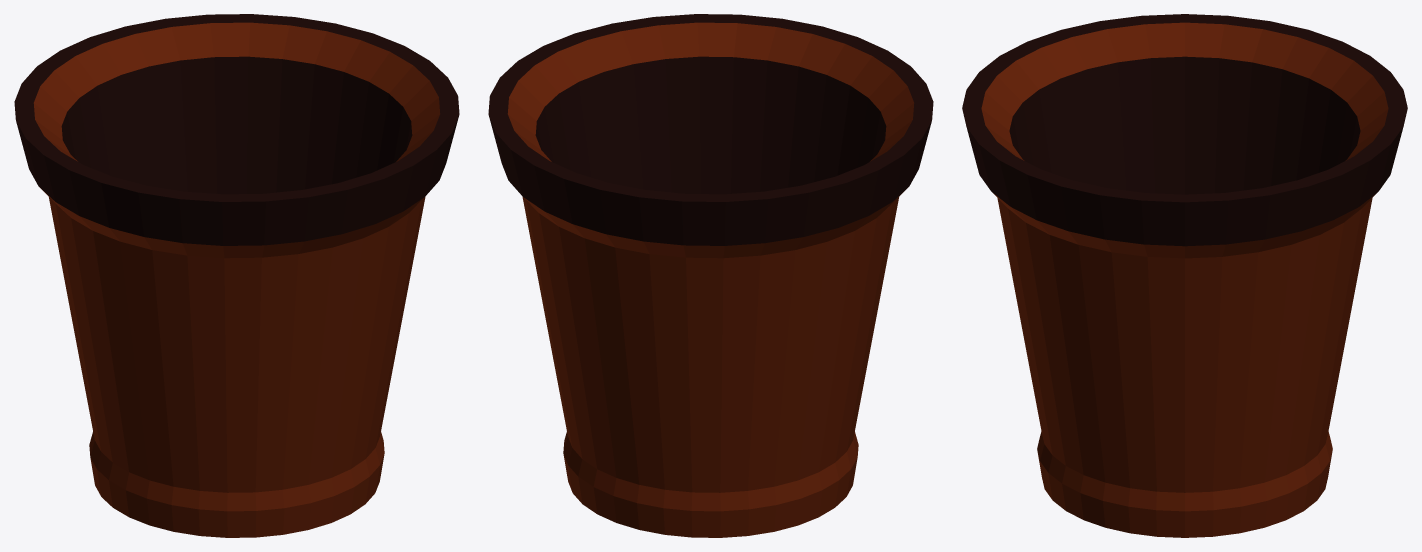
Rendered from tong.obj.
3 renders of one model, left to right at view 1: azimuth 30°, elevation 25°; view 2: azimuth 150°, elevation 25°; view 3: azimuth 270°, elevation 25°, orthographic.
Parts seen in each view (by area): view 1: Tong_Sampah_Cylinder; view 2: Tong_Sampah_Cylinder; view 3: Tong_Sampah_Cylinder.
Part boxes in pixels (left/top/right/bottom): Tong_Sampah_Cylinder: left=14, top=14, right=459, bottom=537; Tong_Sampah_Cylinder: left=488, top=14, right=933, bottom=537; Tong_Sampah_Cylinder: left=962, top=14, right=1407, bottom=537.
Bounding box in the file's own units: 2.04 × 1.87 × 2.04.
